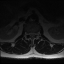CCS_normal: (31, 29, 33, 38)
LFS_normal: (35, 30, 37, 37)
LLS_normal: (33, 30, 35, 37)
RFS_normal: (27, 30, 29, 37)
RLS_normal: (29, 30, 31, 37)
